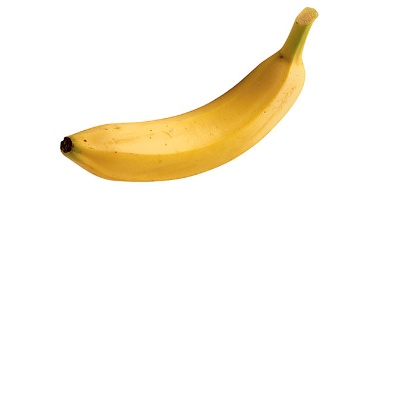chuoi: (51, 19, 319, 190)
